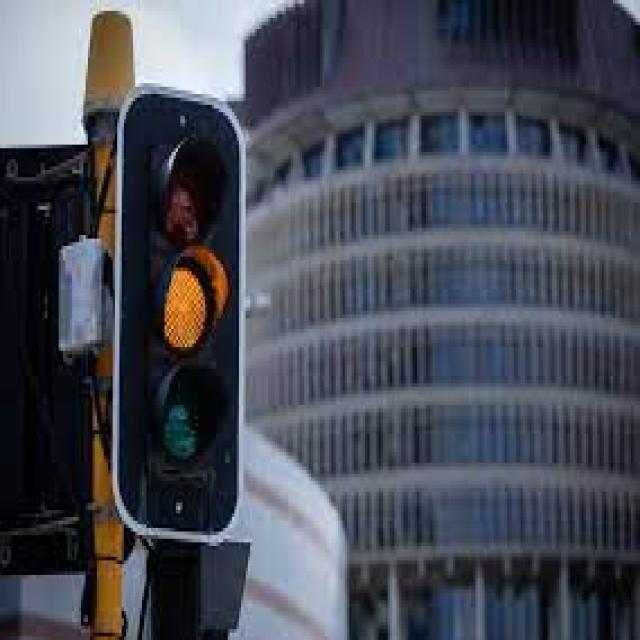yellow light: (119, 87, 240, 528)
